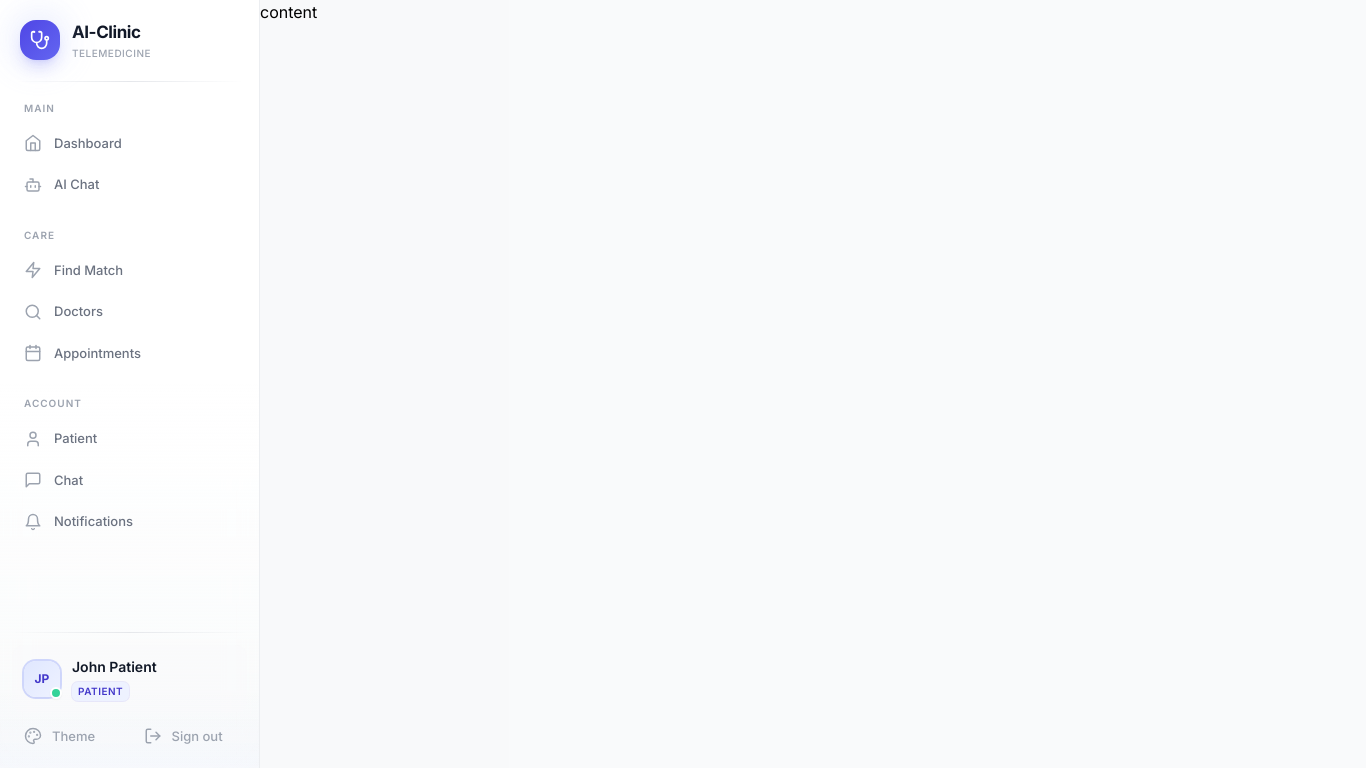
Test: Sidebar & Profile Avatar sync › updates sidebar corner avatar immediately after uploading in ProfileModal
This screenshot has width=1366, height=768.
Later steps or results of the test are not shown.
Expected: the text "JP" is shown, [24,660,60,696]
Click the button "JP John Patient PATIENT".
click(130, 678)  # box [12,644,247,712]
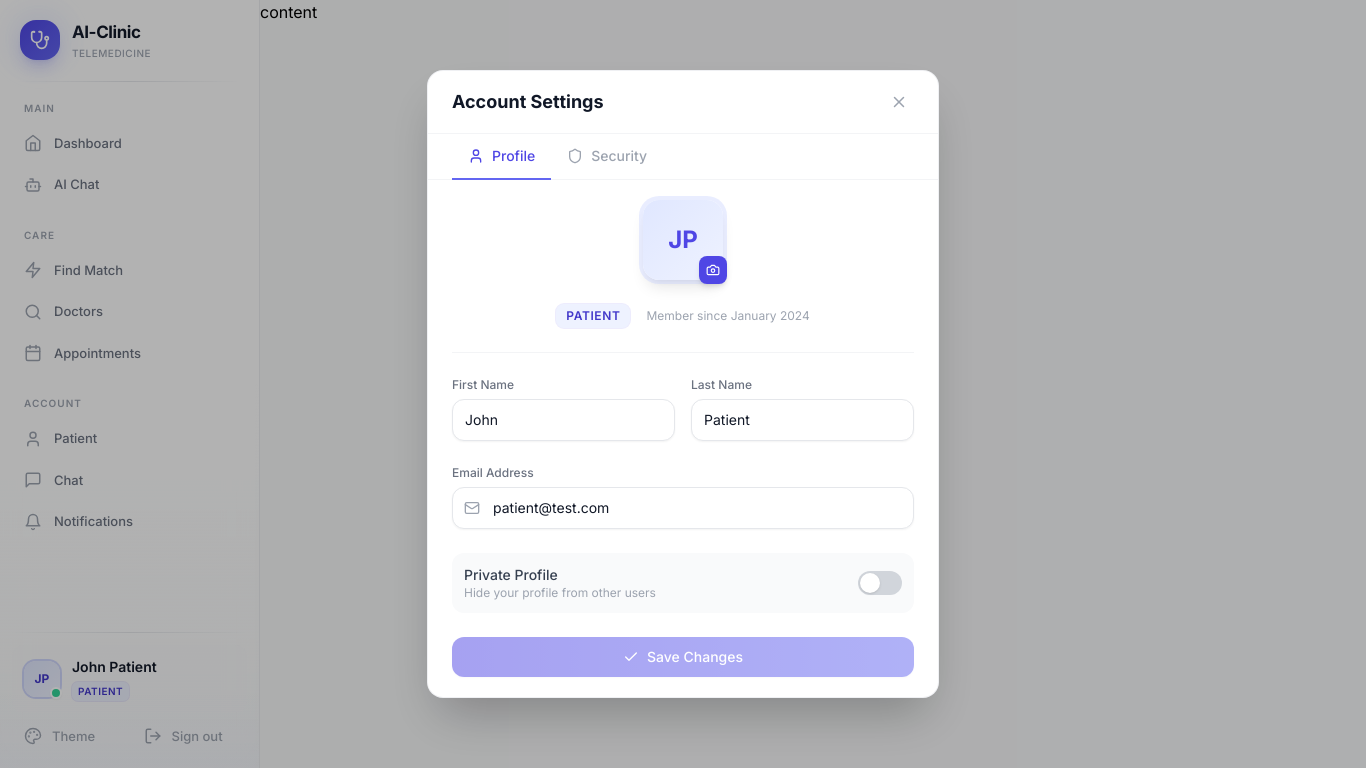
Now the button "Profile" is shown, box [452,134,551,180]
